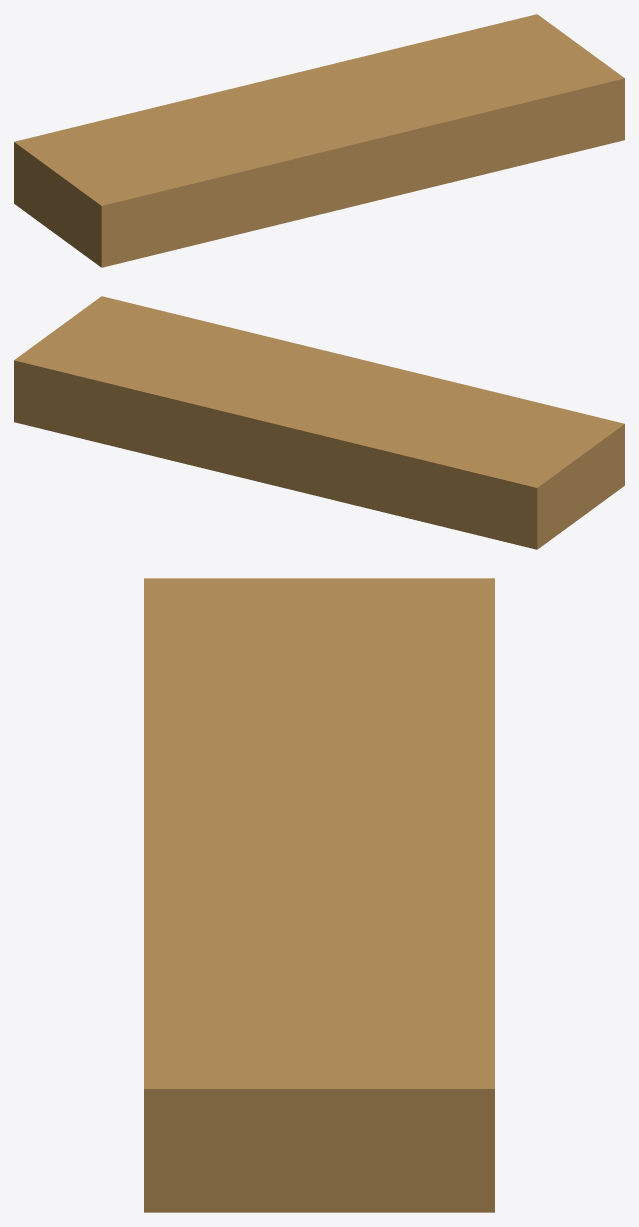
3 views of the same model, one above another, from view 1: azimuth 30°, elevation 25°; view 2: azimuth 150°, elevation 25°; view 3: azimuth 270°, elevation 25° (orthographic). The views are drawn at different scales.
Visible parts, largest first — view 1: RUN-043-S00-ribbon; view 2: RUN-043-S00-ribbon; view 3: RUN-043-S00-ribbon.
Boxes of the visible parts, left/top/right/bottom form: RUN-043-S00-ribbon: left=14, top=14, right=624, bottom=267; RUN-043-S00-ribbon: left=14, top=296, right=624, bottom=549; RUN-043-S00-ribbon: left=144, top=578, right=494, bottom=1212.
Bounding box in the file's own units: 0.31 × 0.035 × 0.09.
